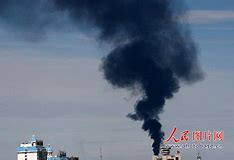smoke: (100, 1, 201, 154)
